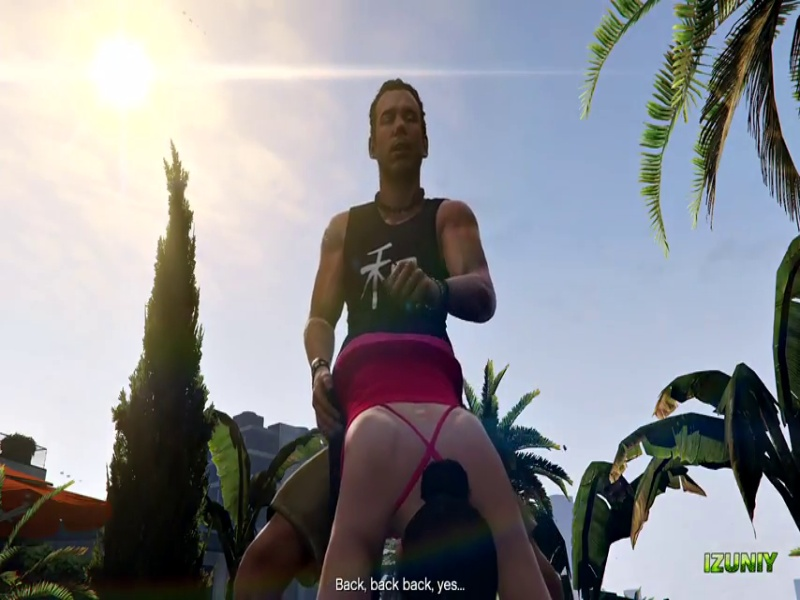human: (286, 61, 509, 551)
